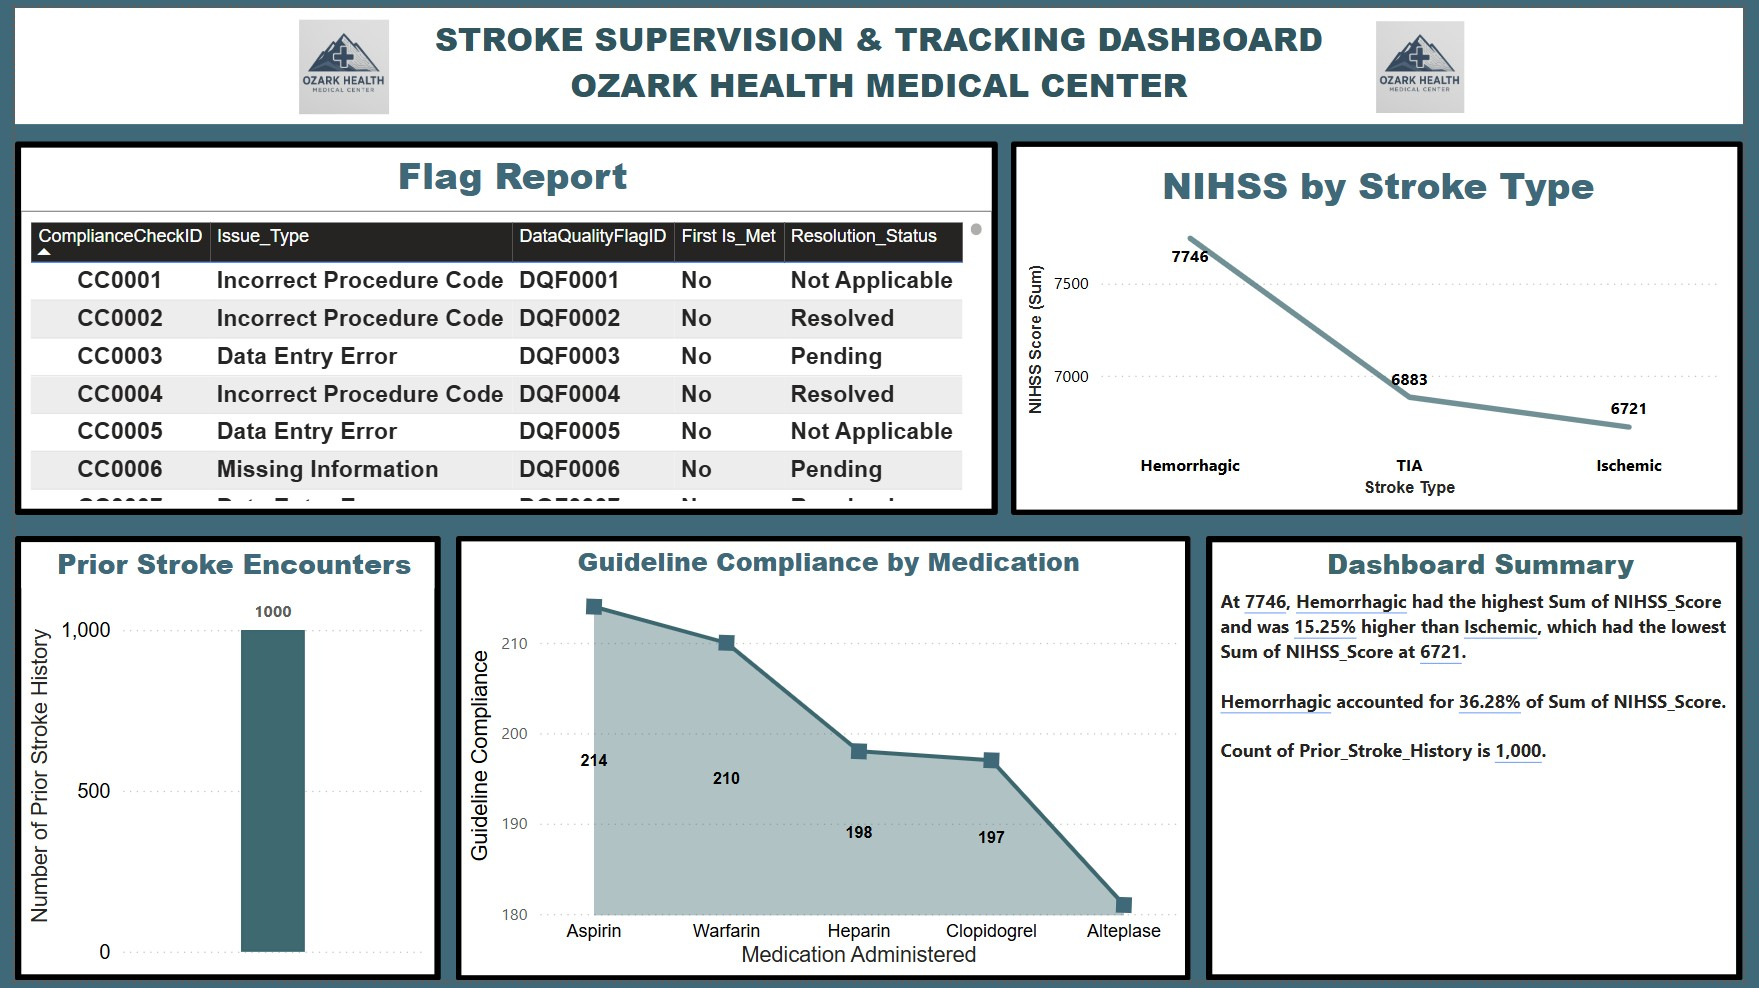

What the dashboard file says about the page in this screenshot:
{"tool":"powerbi","page":{"name":"Page 1","canvas":[1280,720],"ordinal":0},"visuals":[{"type":"lineChart","title":"NIHSS by Stroke Type","fields":{"Category":["STROKE_ENCOUNTER (2).Stroke_Type"],"Y":["Sum(STROKE_ENCOUNTER (2).NIHSS_Score)"]},"box":[738.2,98.6,542.1,276.6],"z":0},{"type":"textbox","box":[0,0,1280,86.2],"z":1000},{"type":"tableEx","title":"Flag Report","fields":{"Values":["DATA_QUALITY_FLAG (2).ComplianceCheckID","DATA_QUALITY_FLAG (2).Issue_Type","DATA_QUALITY_FLAG (2).DataQualityFlagID","Min(COMPLIANCE_CHECK (2).Is_Met)","DATA_QUALITY_FLAG (2).Resolution_Status"]},"box":[0,98.5,727.7,276.9],"z":2000},{"type":"columnChart","title":"Stroke Encounters","fields":{"Y":["CountNonNull(PATIENT (2).Prior_Stroke_History)"]},"box":[0,390.8,315.4,329.2],"z":3000},{"type":"stackedAreaChart","title":"Guideline Compliance by Medication","fields":{"Category":["TREATMENT (2).Medication_Name"],"Y":["CountNonNull(TREATMENT (2).Guideline_Compliance)"]},"box":[327,391,544,329],"z":4000},{"type":"image","box":[204.6,3.1,78.5,80],"z":5000},{"type":"image","box":[998.5,4.6,84.6,78.5],"z":6000},{"type":"textbox","title":"Dashboard Summary","box":[882.7,390.9,397.3,329.1],"z":7000}]}

Visuals, with their boxes in screenshot pixels (x1, y1, x2, y2), scaled from the page's 1280x720 canvas onto the 1759x988 screenshot:
"NIHSS by Stroke Type" lineChart: Rect(1014, 135, 1758, 515)
textbox: Rect(0, 0, 1758, 118)
"Flag Report" tableEx: Rect(0, 135, 1000, 515)
"Stroke Encounters" columnChart: Rect(0, 536, 433, 987)
"Guideline Compliance by Medication" stackedAreaChart: Rect(449, 537, 1197, 987)
image: Rect(281, 4, 389, 114)
image: Rect(1372, 6, 1488, 114)
"Dashboard Summary" textbox: Rect(1213, 536, 1758, 987)
